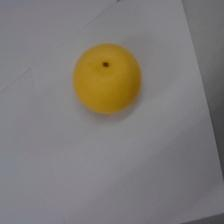yellow: (74, 43, 140, 112)
